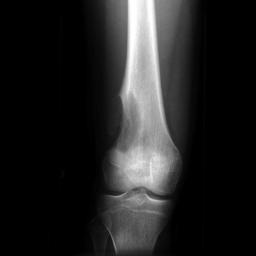cancer: (105, 90, 142, 154)
